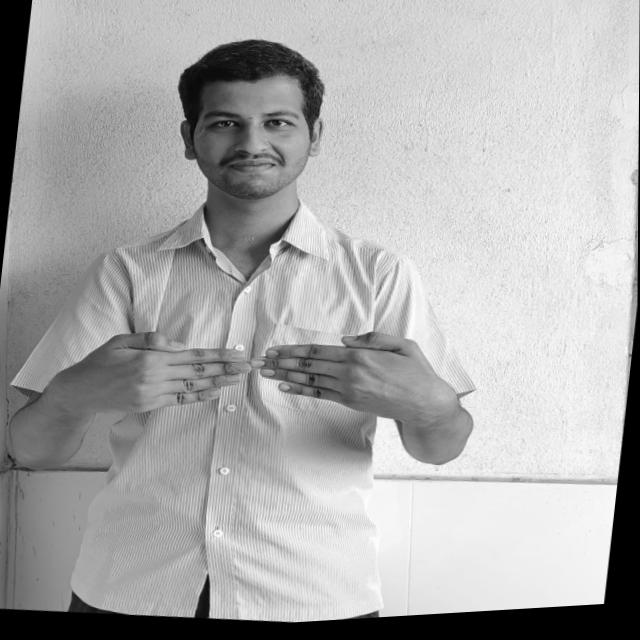Night: (80, 301, 434, 449)
